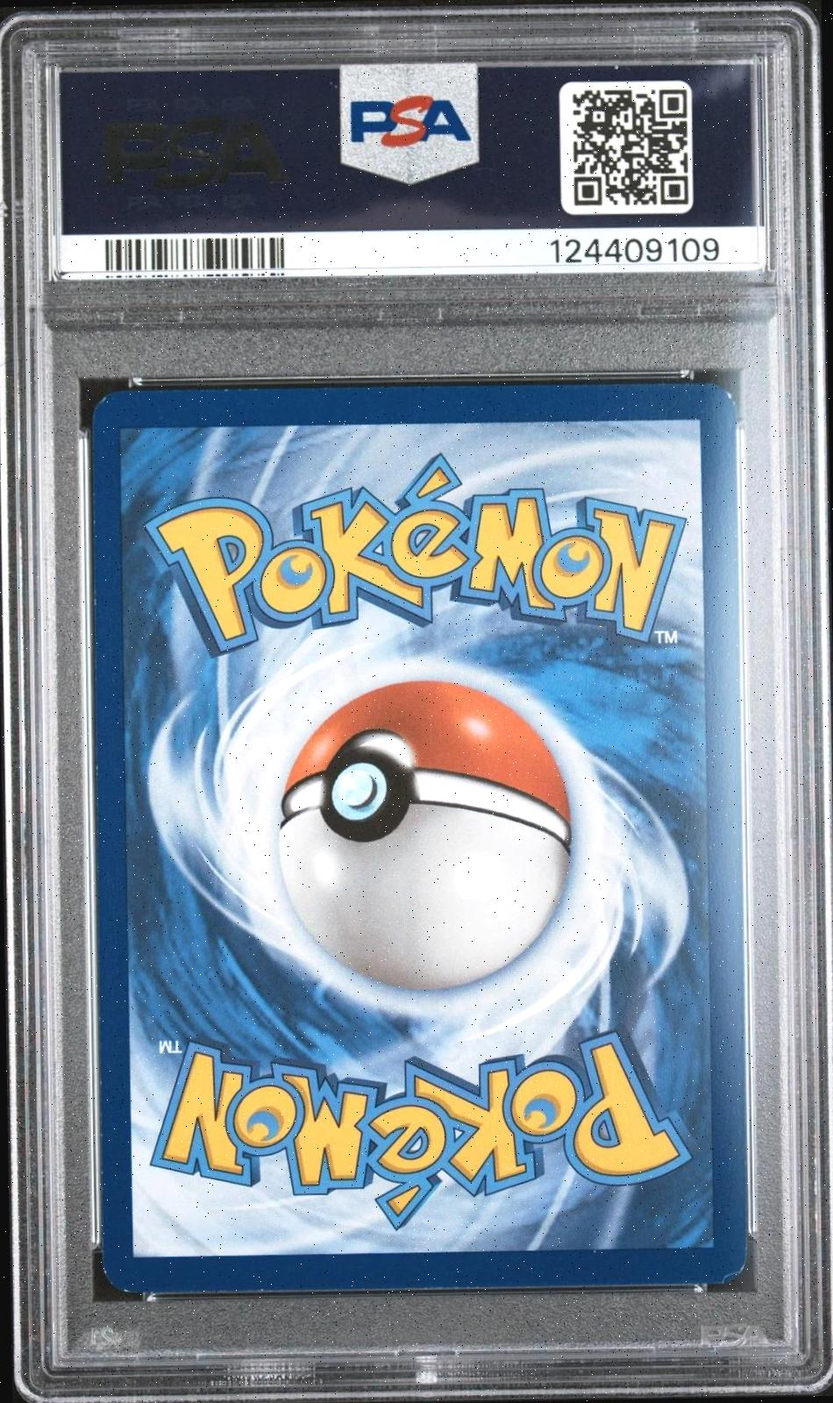card-2UtV: (91, 382, 748, 1294)
